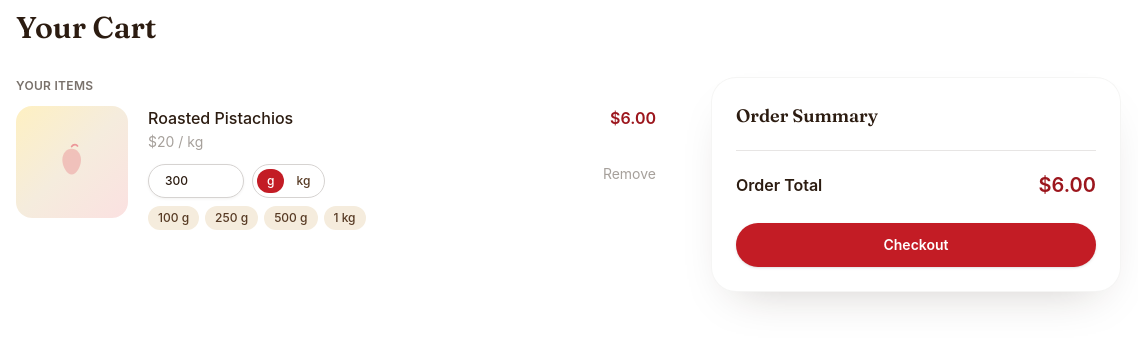
Test: CartPage › removes a line item
This screenshot has width=1138, height=354.
Click the button "Remove": (629, 174) left=603, top=164, right=656, bottom=184
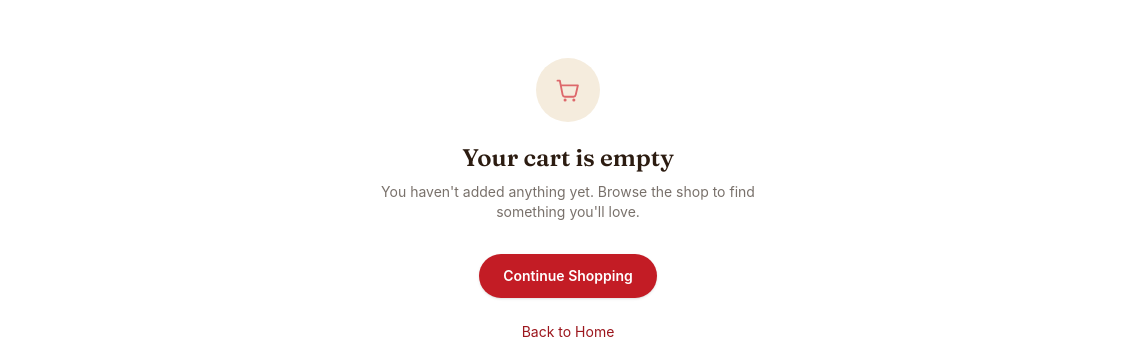
Check: the heading "Your cart is empty" is shown, box left=462, top=143, right=674, bottom=172
